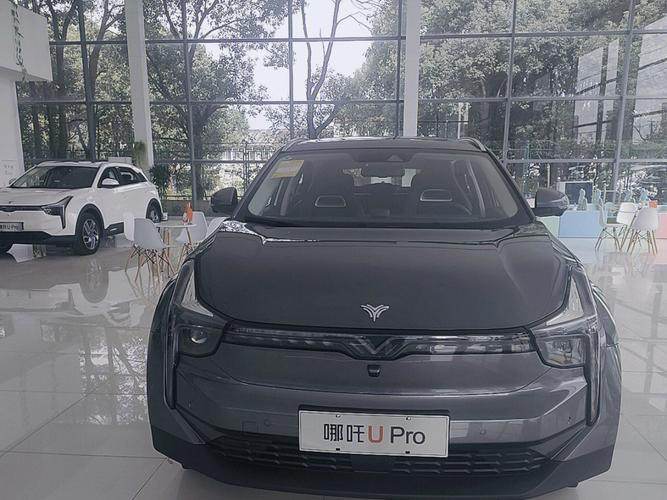NETA: (358, 303, 391, 323)
